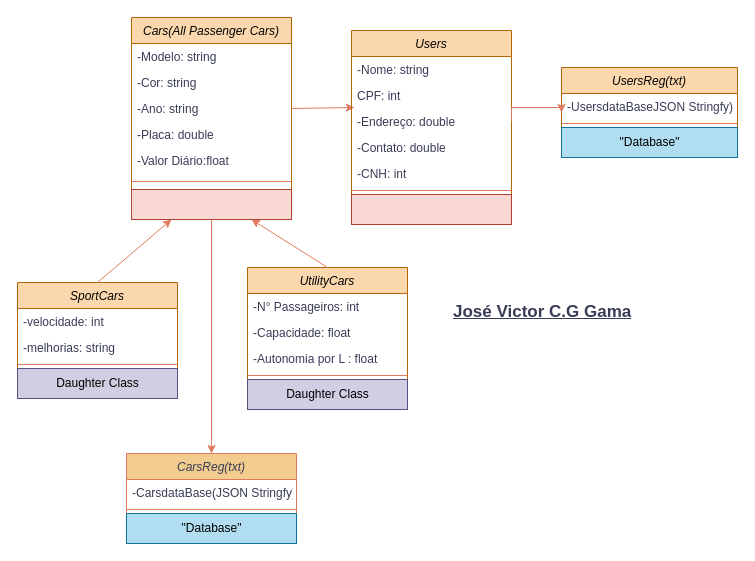
Image size: 755x561. Some labels were removed from this diagram. The centre of each missing label's shape, as x and y in pixels:
"Module():RegNewCar()" belongs at (x=211, y=204).
"Module:WriteIn()" belongs at (x=431, y=209).
